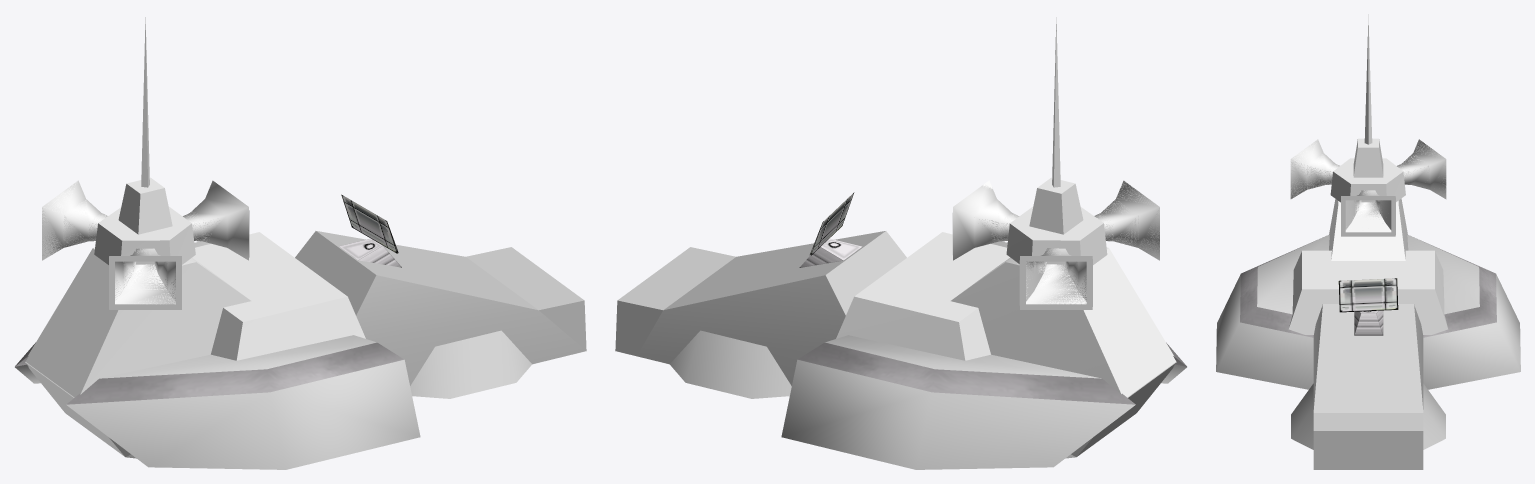
The picture shows the model from 3 angles, left to right: view 1: azimuth 30°, elevation 25°; view 2: azimuth 150°, elevation 25°; view 3: azimuth 270°, elevation 25°; orthographic projection. The views are drawn at different scales.
Parts seen in each view (by area): view 1: m1, m2, m3; view 2: m1, m2, m3; view 3: m1, m2, m3.
Boxes of the visible parts, x1,y1,x2,y2 form: m1: (15,194,586,469); m2: (25,17,365,397); m3: (15,238,403,404); m1: (615,192,1186,469); m2: (836,17,1176,397); m3: (798,238,1186,404); m1: (1216,234,1520,469); m2: (1289,14,1447,334); m3: (1240,237,1496,337).
Bounding box in the file's own units: 35.5 × 27.75 × 24.45.
